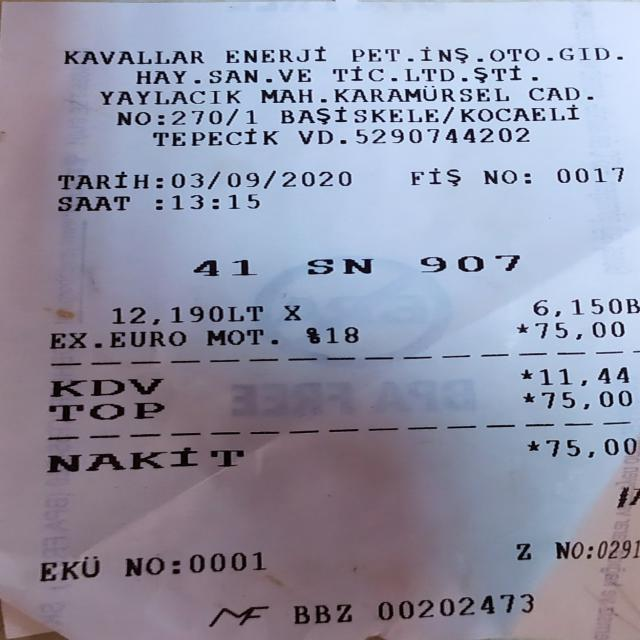text: (44, 446, 246, 473), (351, 42, 608, 63), (296, 124, 528, 146), (376, 592, 534, 622), (168, 167, 350, 190), (332, 64, 520, 82), (335, 84, 511, 103), (134, 66, 309, 85), (280, 104, 437, 125), (57, 43, 204, 65), (48, 328, 185, 351), (97, 86, 240, 106), (152, 125, 278, 147), (110, 305, 263, 323), (459, 102, 578, 123), (48, 376, 163, 397), (44, 402, 164, 422), (225, 42, 326, 64), (419, 251, 519, 273), (56, 168, 146, 191), (532, 297, 639, 315), (545, 436, 636, 457), (535, 319, 623, 340), (169, 106, 256, 127), (539, 365, 628, 385), (544, 389, 632, 408), (556, 163, 623, 187), (306, 252, 372, 276), (188, 552, 265, 572), (292, 599, 354, 623), (192, 255, 256, 278), (204, 325, 263, 349), (56, 193, 129, 212), (206, 603, 270, 624), (39, 558, 100, 579), (410, 164, 460, 188), (262, 84, 311, 105), (528, 82, 578, 102), (596, 538, 639, 558), (122, 554, 160, 576), (482, 164, 516, 188), (115, 106, 150, 129), (326, 323, 356, 347), (171, 192, 202, 212), (227, 191, 258, 211), (552, 540, 582, 560), (511, 542, 533, 560), (282, 301, 300, 322), (305, 323, 319, 348), (526, 436, 539, 459), (170, 552, 182, 576), (441, 102, 453, 125), (155, 167, 166, 192), (519, 366, 532, 387), (519, 390, 537, 404), (516, 320, 527, 342), (320, 84, 330, 105), (269, 325, 277, 349), (587, 539, 596, 559), (157, 106, 164, 129), (154, 192, 162, 212), (524, 164, 530, 188), (211, 192, 218, 212), (616, 40, 622, 63), (586, 81, 592, 102), (531, 62, 537, 82)
